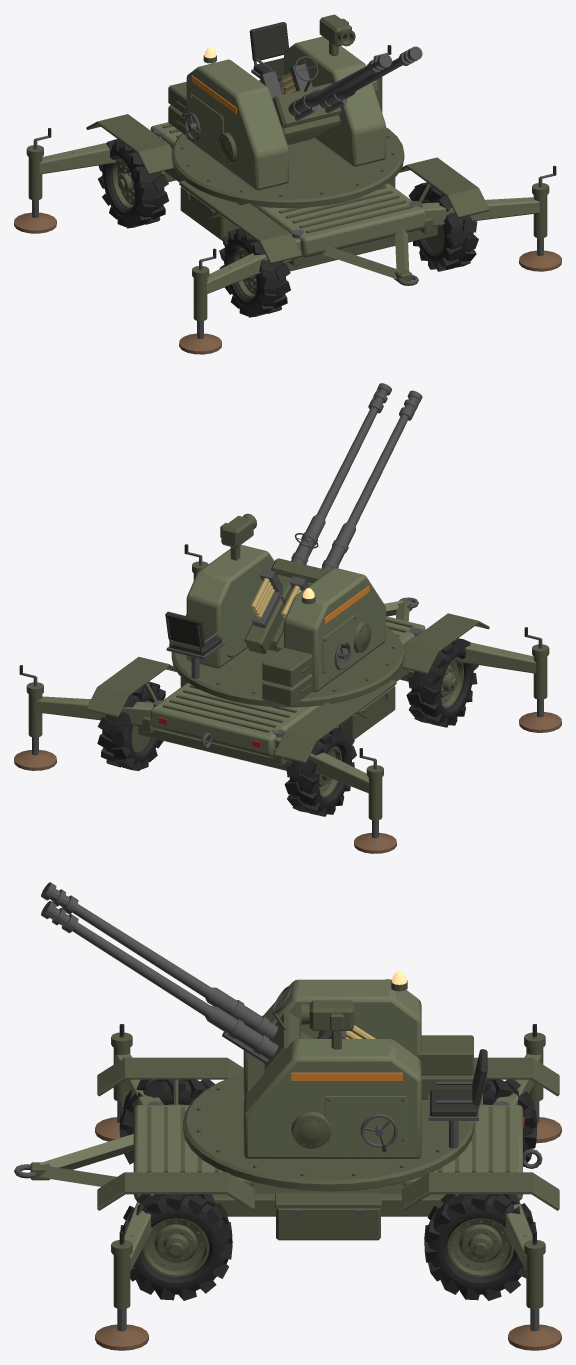
File: Enemy_AAGun.fbx
3 views of the same model, one above another, from view 1: azimuth 30°, elevation 25°; view 2: azimuth 150°, elevation 25°; view 3: azimuth 270°, elevation 25° (orthographic). The views are drawn at different scales.
Parts seen in each view (by area): view 1: Enemy_AAGun_Mesh, Turret; view 2: Enemy_AAGun_Mesh, Turret; view 3: Enemy_AAGun_Mesh, Turret.
Part boxes in pixels (x1,y1,x2,y2): Enemy_AAGun_Mesh: [14, 45, 561, 354]; Turret: [168, 14, 422, 208]; Enemy_AAGun_Mesh: [14, 544, 561, 853]; Turret: [165, 383, 422, 707]; Enemy_AAGun_Mesh: [14, 1024, 561, 1350]; Turret: [41, 882, 487, 1191].
Size of the model in its own units: 3.22 by 2.24 by 3.24.
